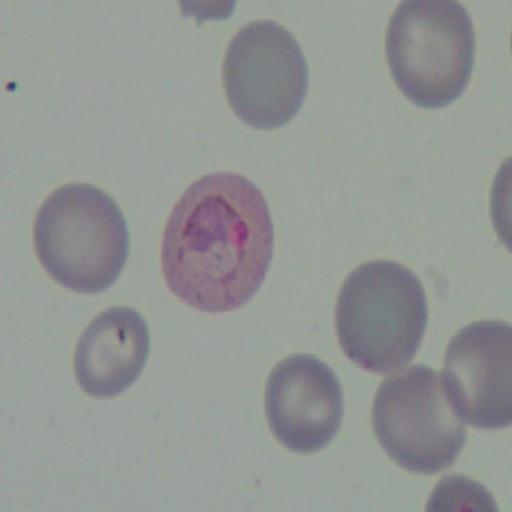Infected: (161, 173, 275, 313)
Uninfected: (34, 184, 131, 292), (373, 367, 467, 471), (338, 260, 426, 371), (386, 1, 475, 110), (226, 18, 311, 130), (266, 355, 342, 455), (444, 319, 512, 428), (74, 306, 150, 399)
